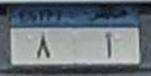8: (34, 34, 51, 60)
alif: (103, 31, 115, 59)
